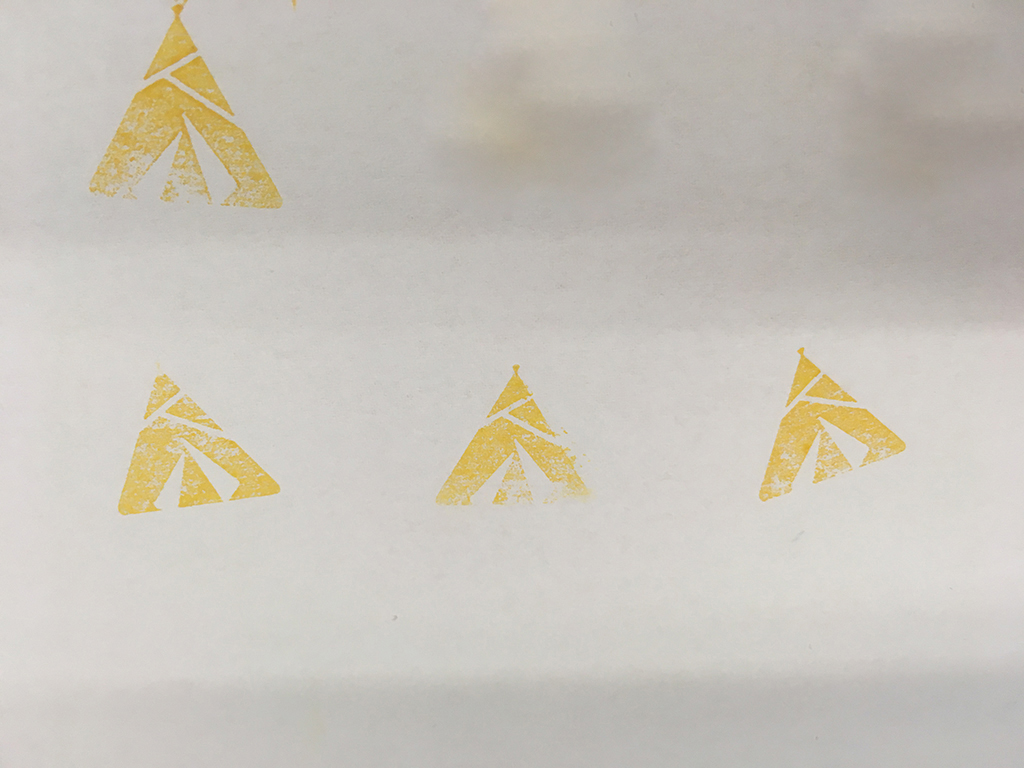tent: (81, 1, 288, 218), (107, 343, 290, 531), (420, 352, 602, 521), (756, 339, 913, 506)
